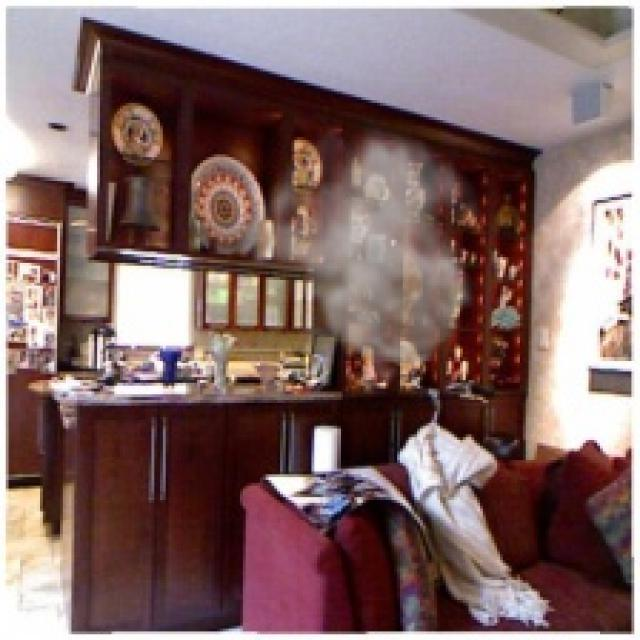Smoke: (222, 120, 498, 389)
